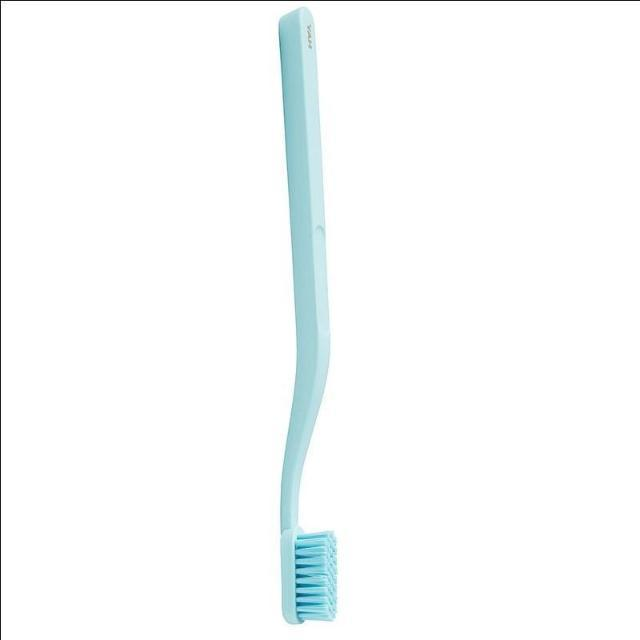toothbrush: (259, 11, 361, 633)
